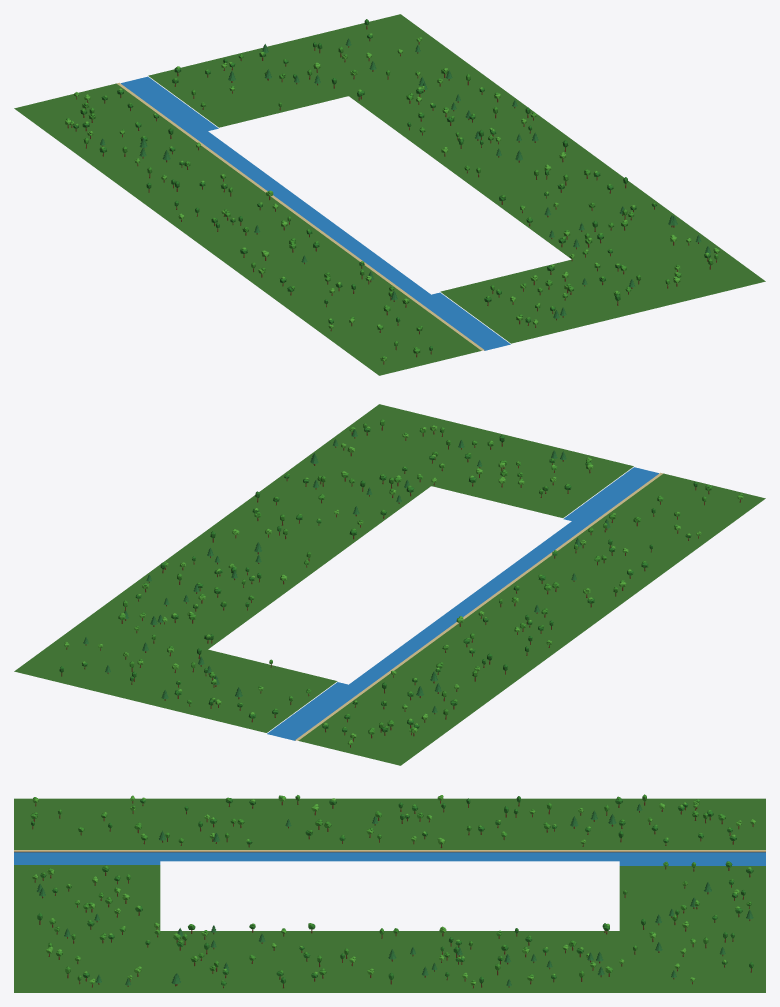
The model's file is skirt.glb.
The picture shows the model from 3 angles, top to bottom: view 1: azimuth 30°, elevation 25°; view 2: azimuth 150°, elevation 25°; view 3: azimuth 270°, elevation 25°; orthographic projection. The views are drawn at different scales.
Visible parts, largest first — view 1: skirt; view 2: skirt; view 3: skirt.
Boxes of the visible parts, x1=… form: skirt: x1=14, y1=14, x2=765, y2=375; skirt: x1=14, y1=404, x2=765, y2=765; skirt: x1=14, y1=794, x2=765, y2=992.
Size of the model in its own units: 176 by 5.68 by 288.
